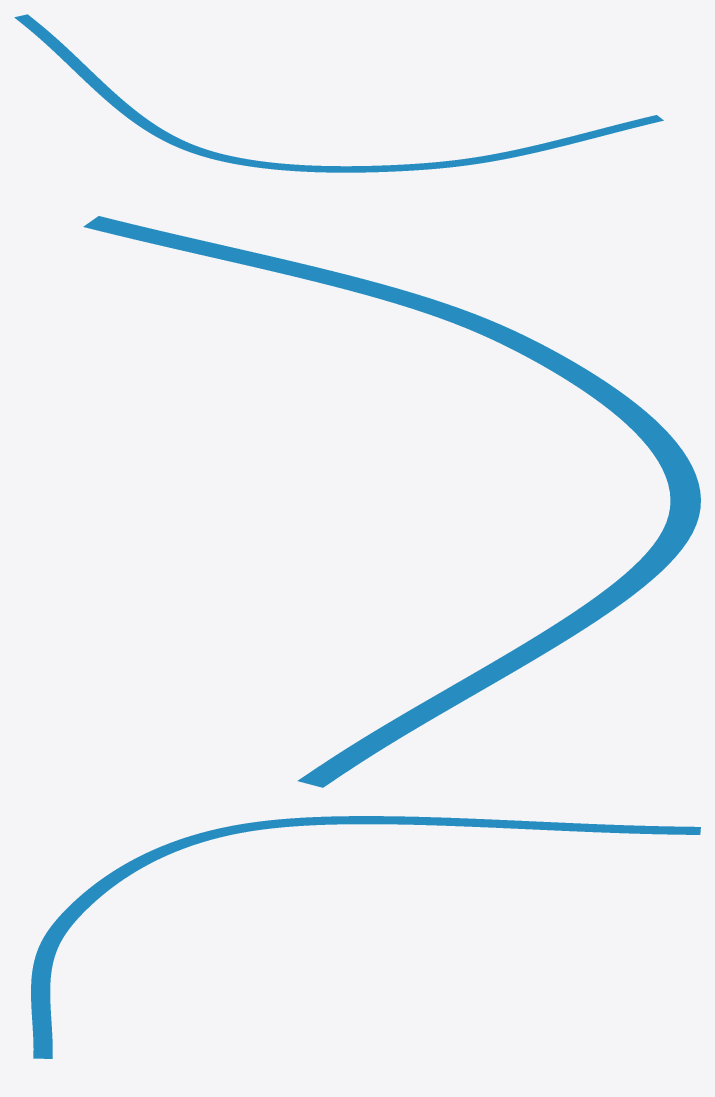
The model's file is guide.glb.
3 renders of one model, top to bottom at view 1: azimuth 30°, elevation 25°; view 2: azimuth 150°, elevation 25°; view 3: azimuth 270°, elevation 25°, orthographic. The views are drawn at different scales.
Visible parts, largest first — view 1: static; view 2: static; view 3: static.
Boxes of the visible parts, left/top/right/bottom form: static: left=14, top=14, right=663, bottom=172; static: left=83, top=216, right=700, bottom=787; static: left=31, top=816, right=700, bottom=1058.
Bounding box in the file's own units: 10.51 × 0 × 11.43.
